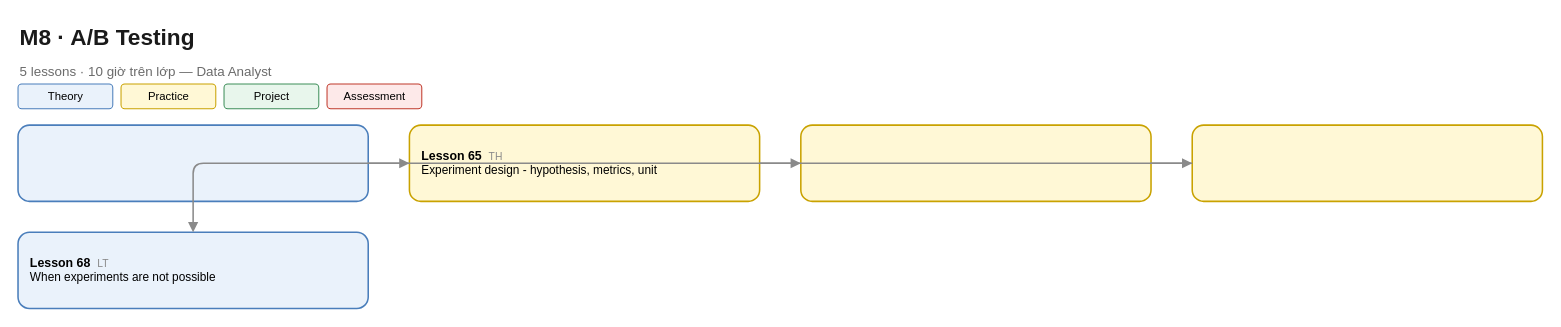
Image size: 1561x327. Some labels were removed from this diagram. The shapes that lost their labels are listed below. From the top down, each one's centre as x and y in pixels, then its label:
At (x=193, y=163): "Lesson 64 LT Why experiments are necessary".
At (x=975, y=163): "Lesson 66 TH Sample size, statistical power and duration".
At (x=1367, y=163): "Lesson 67 TH Running and interpreting - common failure modes".
